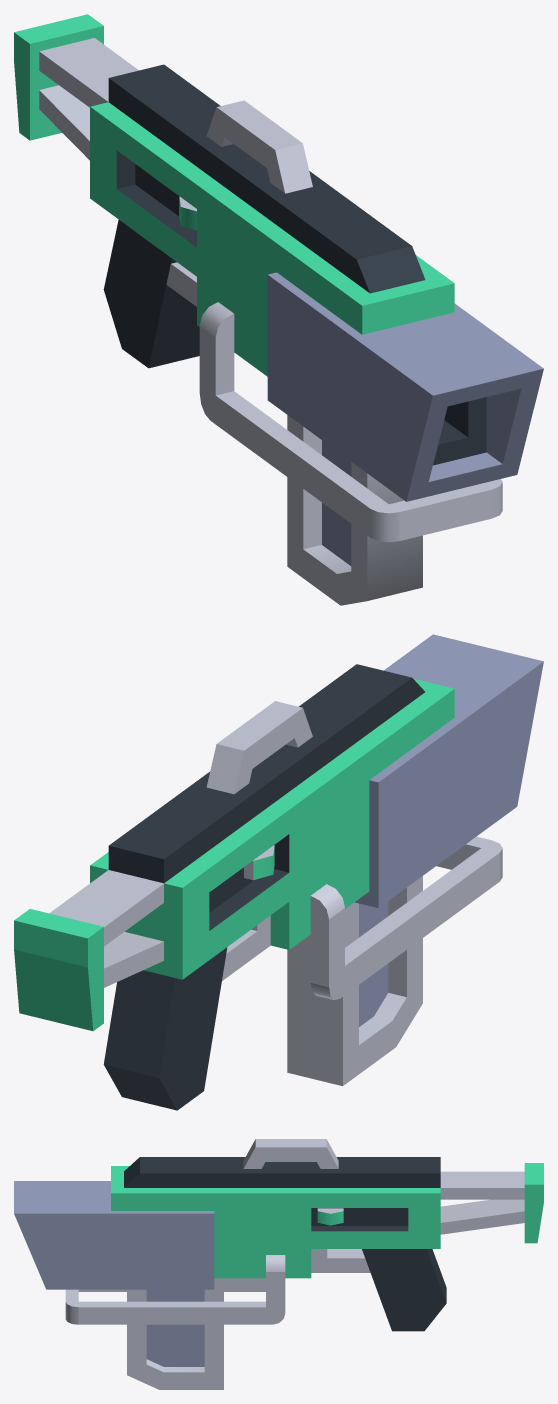
File: weapon_blasterR.gltf
The picture shows the model from 3 angles, top to bottom: view 1: azimuth 30°, elevation 25°; view 2: azimuth 150°, elevation 25°; view 3: azimuth 270°, elevation 25°; orthographic projection. The views are drawn at different scales.
Parts seen in each view (by area): view 1: blasterR; view 2: blasterR; view 3: blasterR.
Part boxes in pixels (bbox=[...]): blasterR: bbox=[14, 14, 543, 605]; blasterR: bbox=[14, 634, 543, 1110]; blasterR: bbox=[14, 1139, 543, 1389].
Size of the model in its own units: 0.21 by 0.6112 by 1.23.
